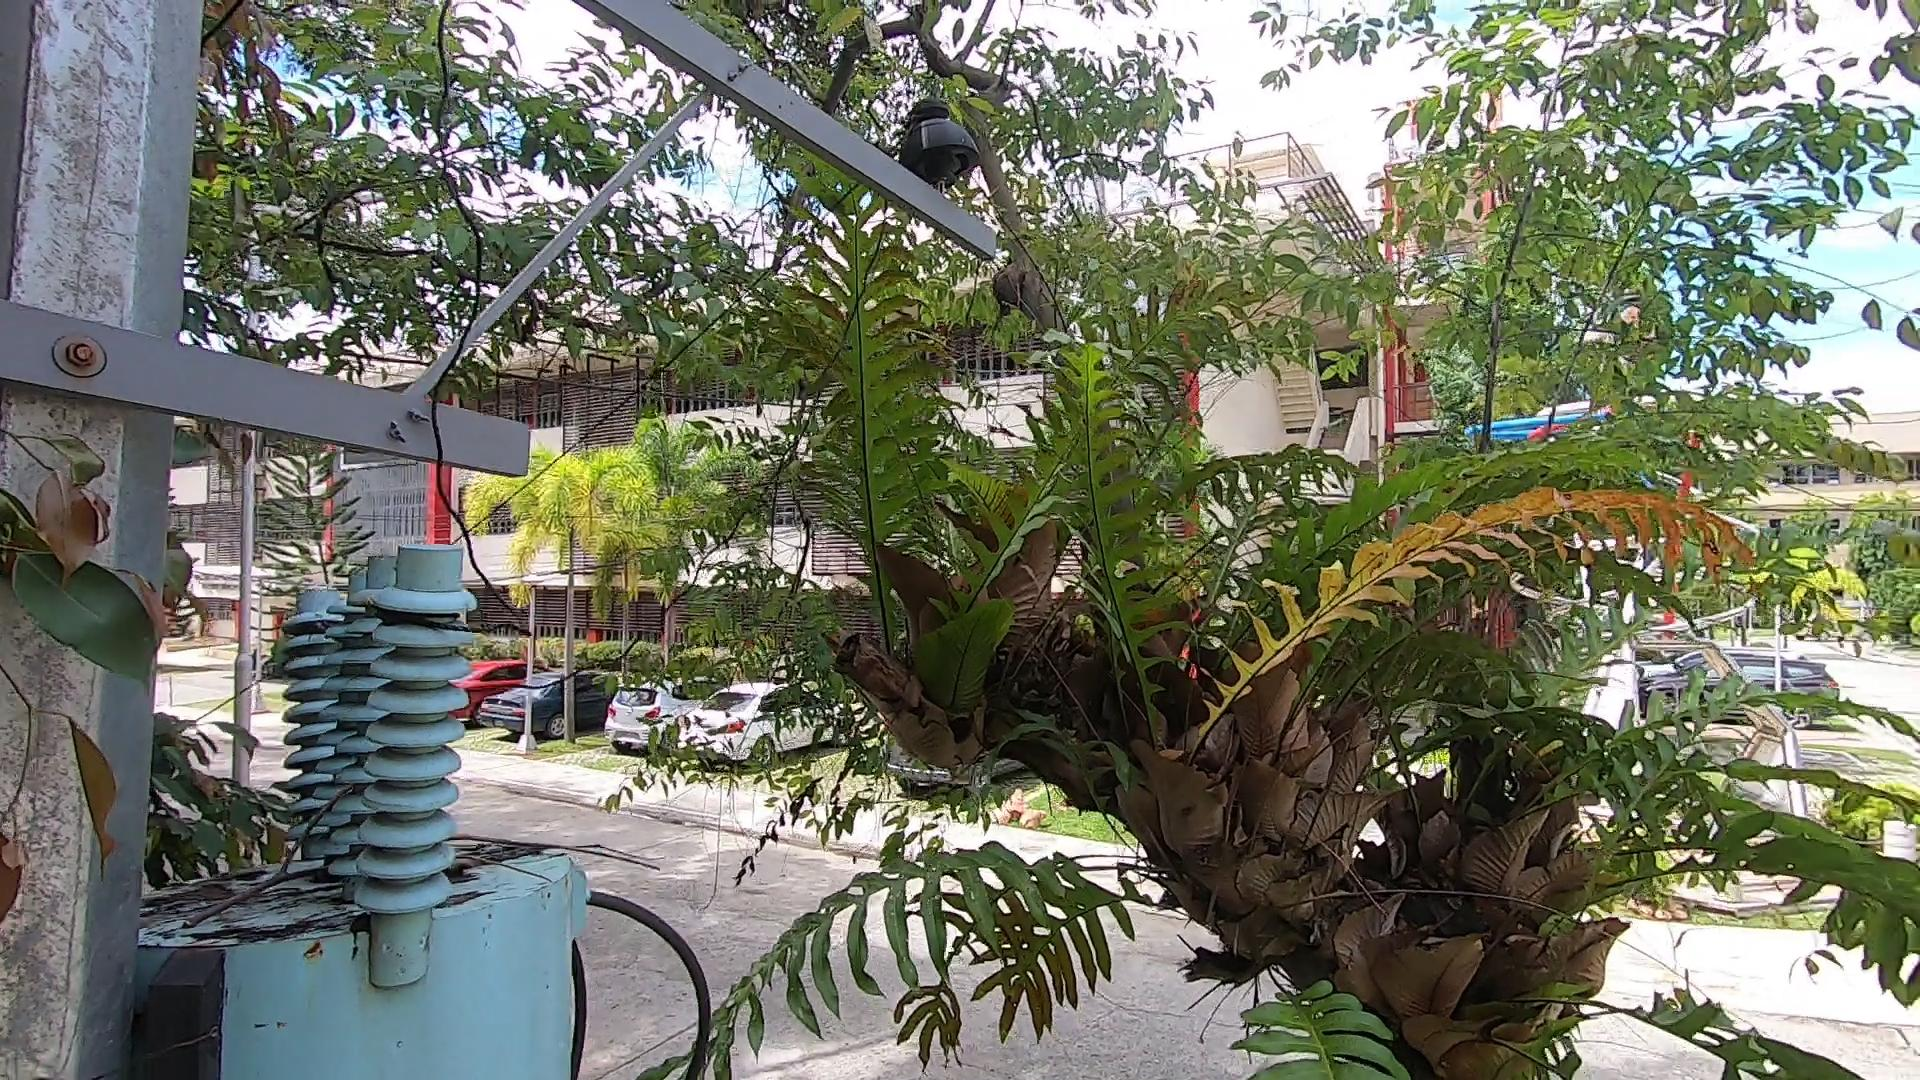branch with leaves: (3, 443, 181, 955)
leaf: (451, 835, 529, 880), (133, 876, 235, 910), (334, 905, 385, 938)
tree branch: (149, 803, 670, 932)
